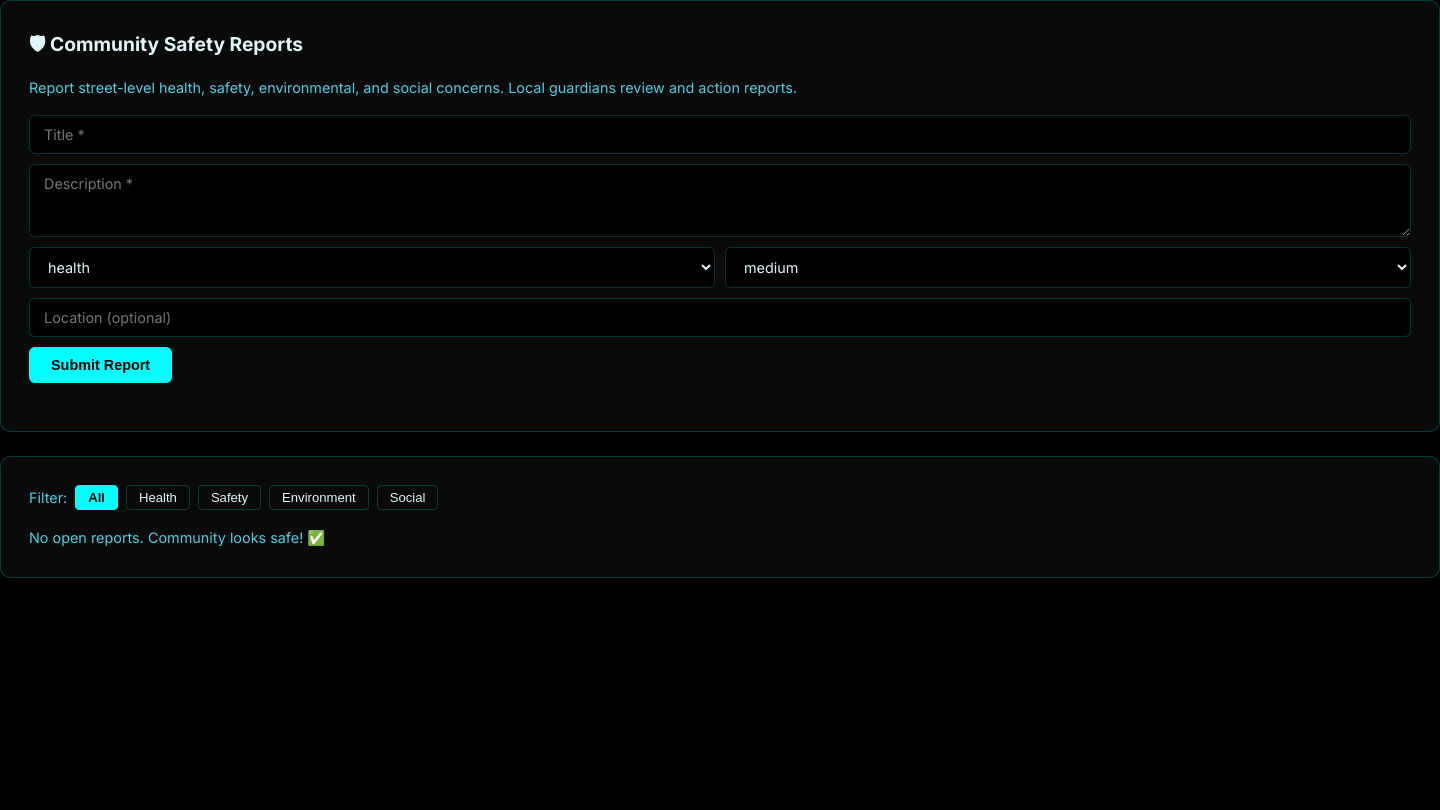
Test case: Safety › shows error message on API failure
The image size is (1440, 810).
Type "Test" into the field with placeholder "Title *" at (720,134), box [29,115,1411,154]
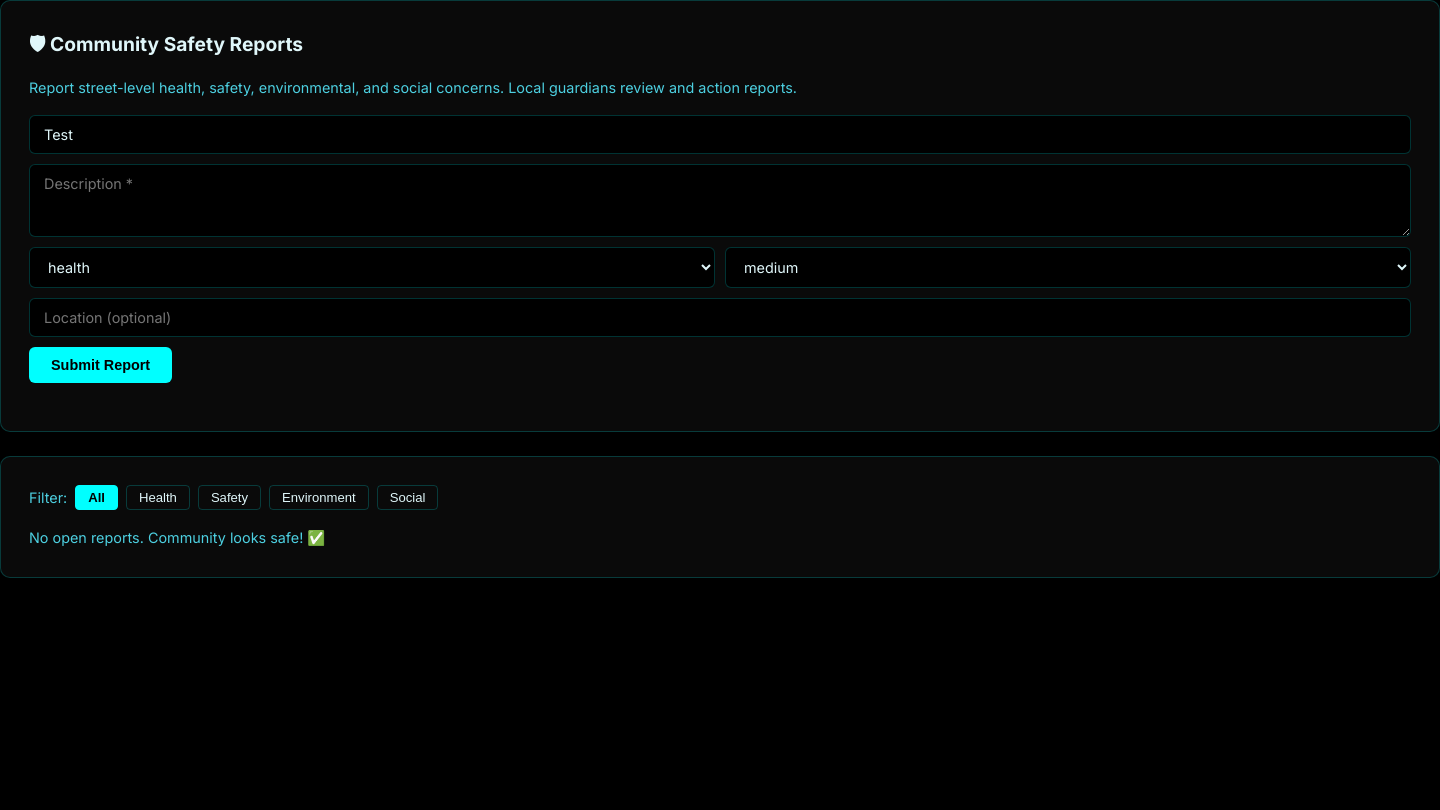
Type "Desc" into the text box with placeholder "Description *" at (720,200), box [29,164,1411,237]
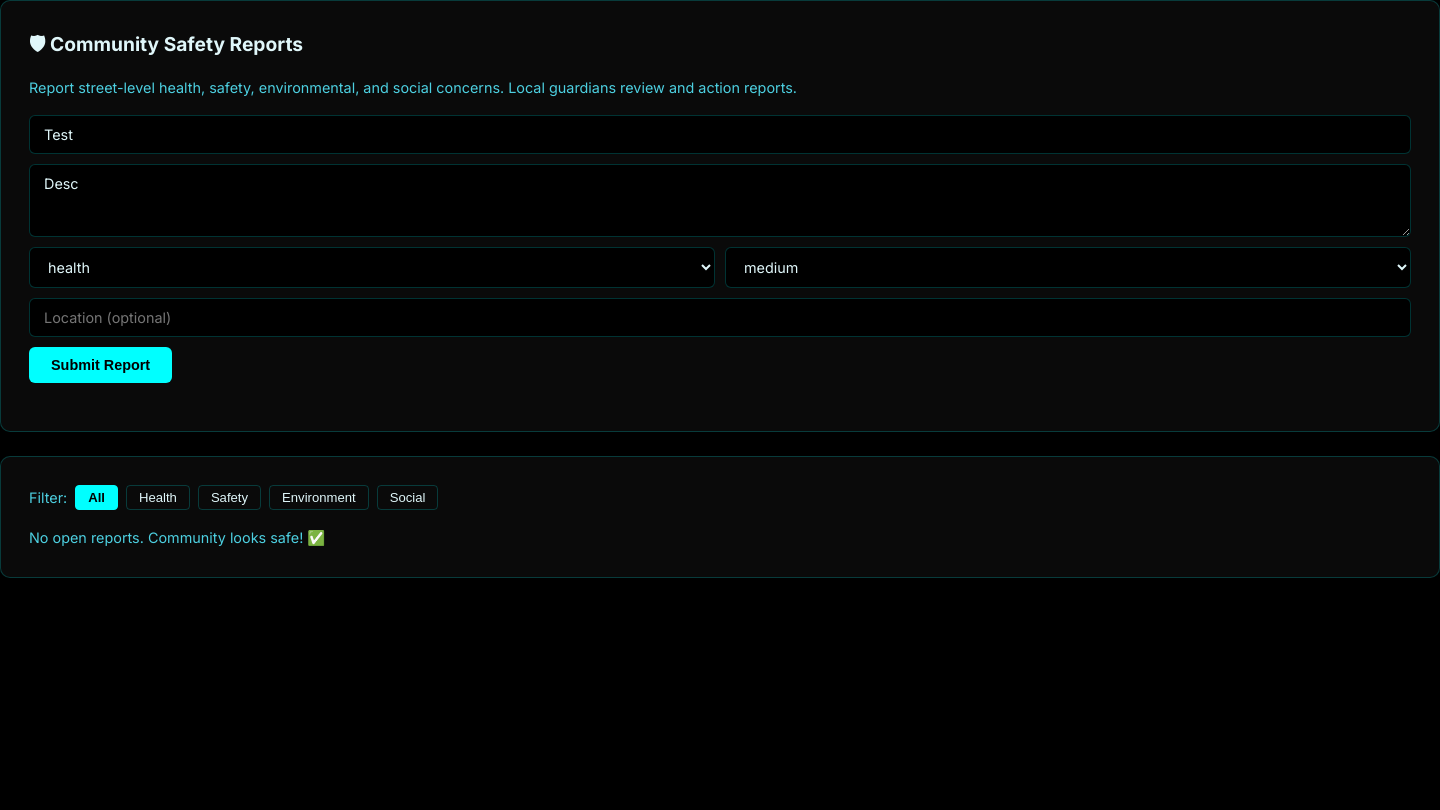
Click the button "Submit Report" at (101,365), box [29,347,172,383]
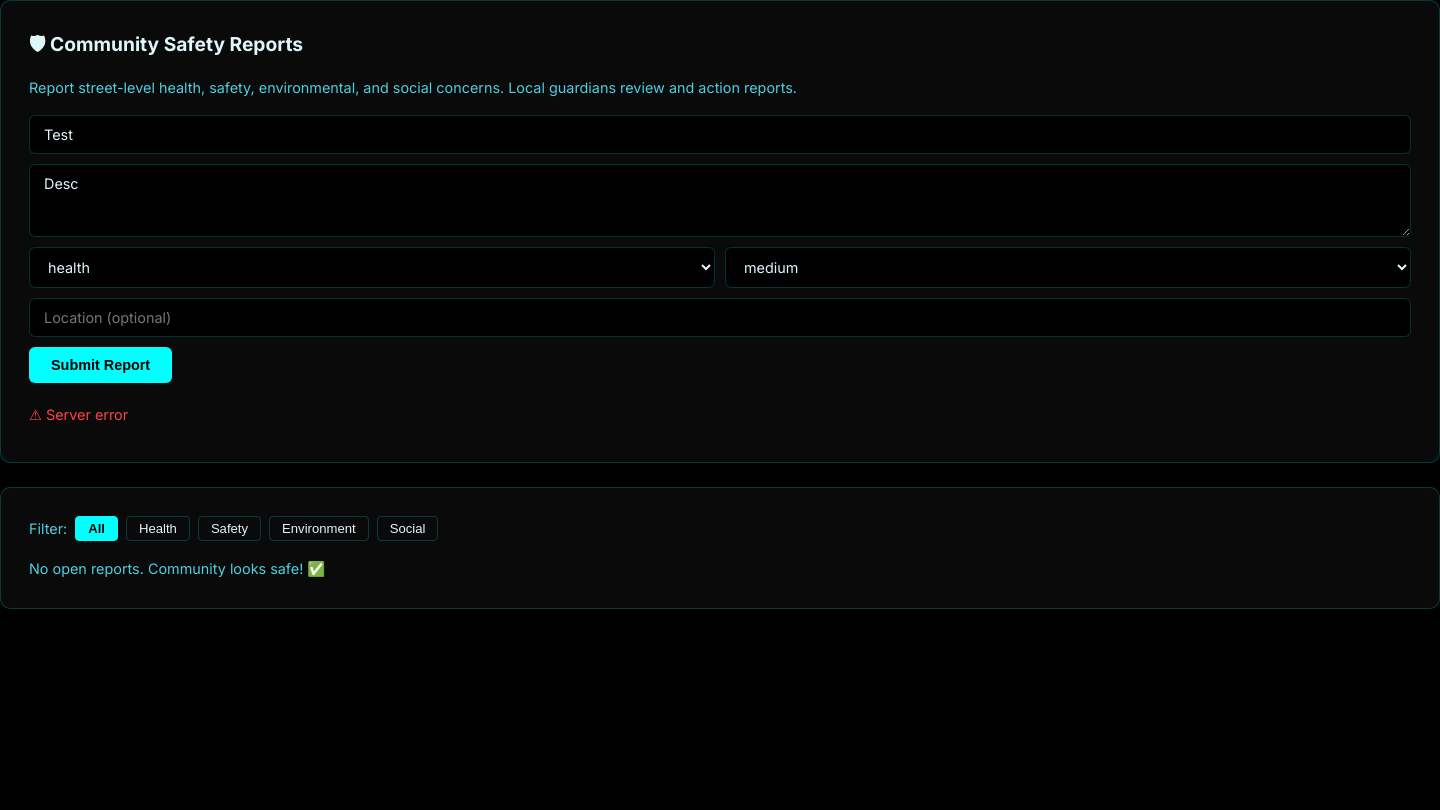
Expected: the text "⚠ Server error" is shown, [29,406,128,423]
